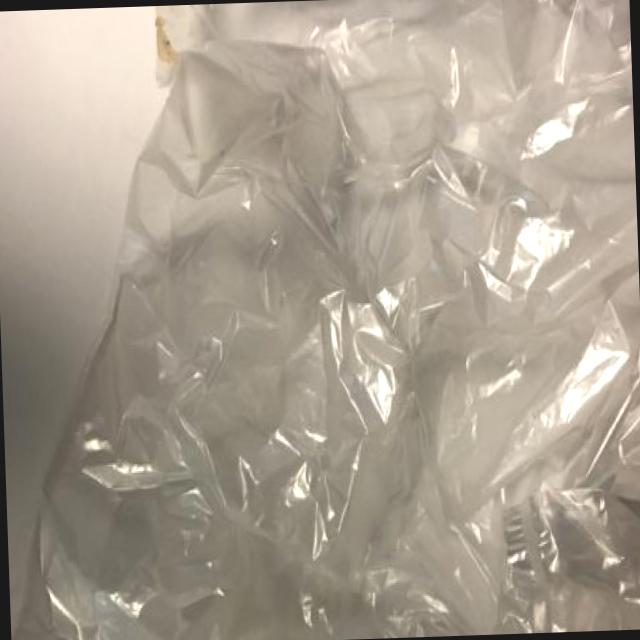tui_ni_long: (9, 0, 640, 640)
